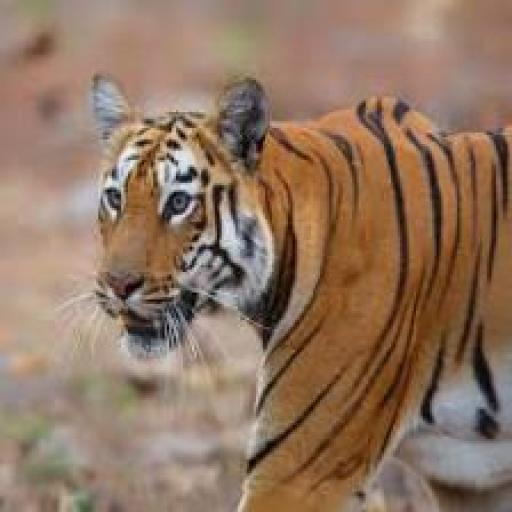Tiger: (89, 71, 510, 512)
